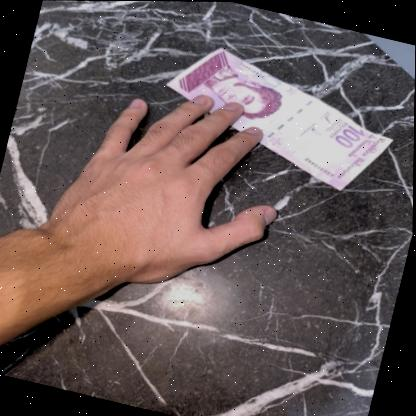one_hundred-front-vef: (151, 36, 406, 200)
